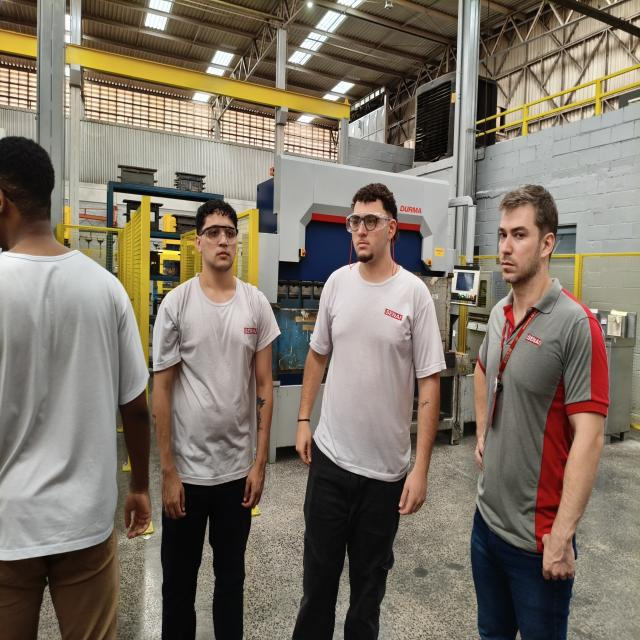oculos-epi: (346, 214, 391, 232), (199, 225, 238, 242)
sem_oculos: (498, 228, 557, 252)
